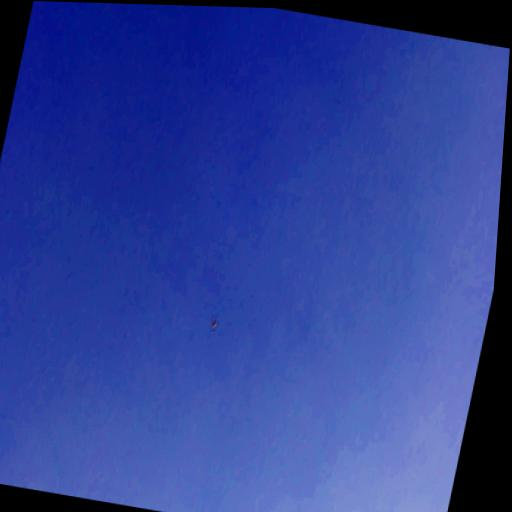drones: (207, 311, 222, 335)
